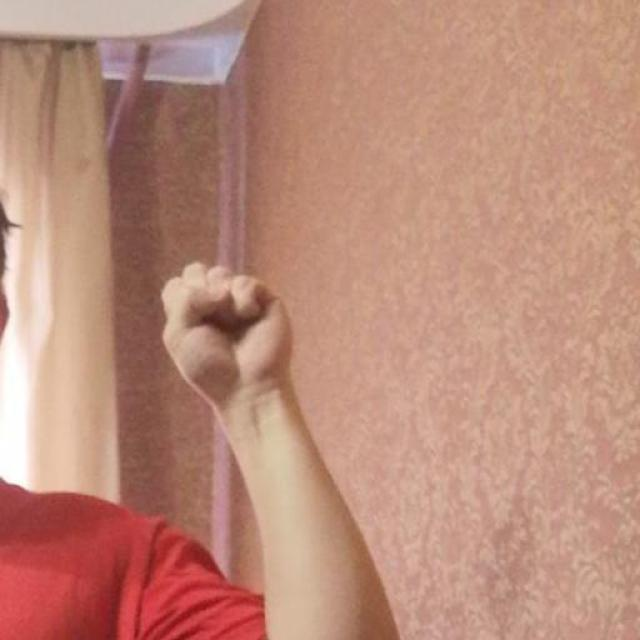hand: (160, 259, 295, 411)
